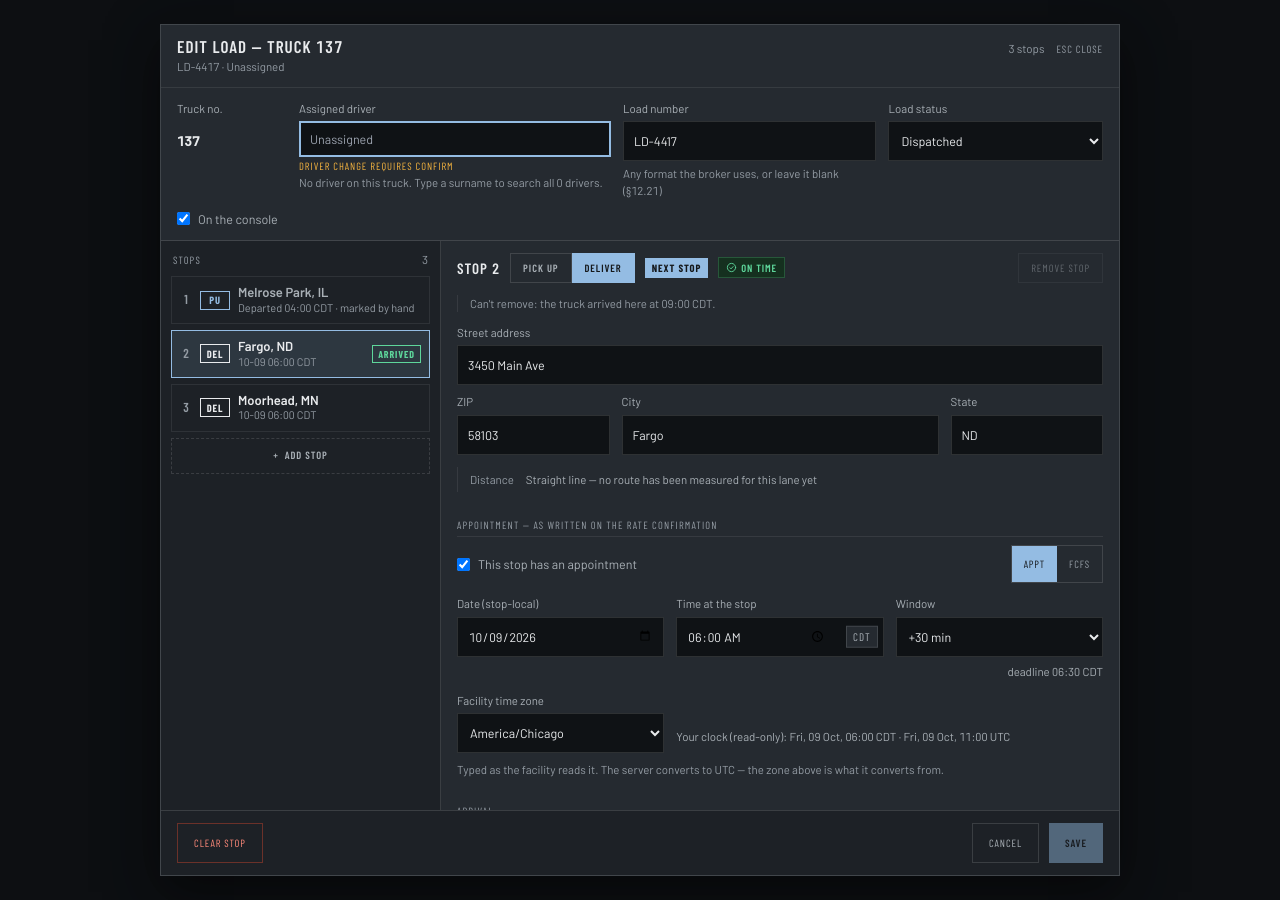
an arrival needs the stop before it left (§12.116 D5) › cannot be ticked on stop 3 while stop 2 has not been left, and says why
Click the tab "3 DEL Moorhead, MN 10-09 06:00 CDT" at point(300, 408), box [171,384,430,432]
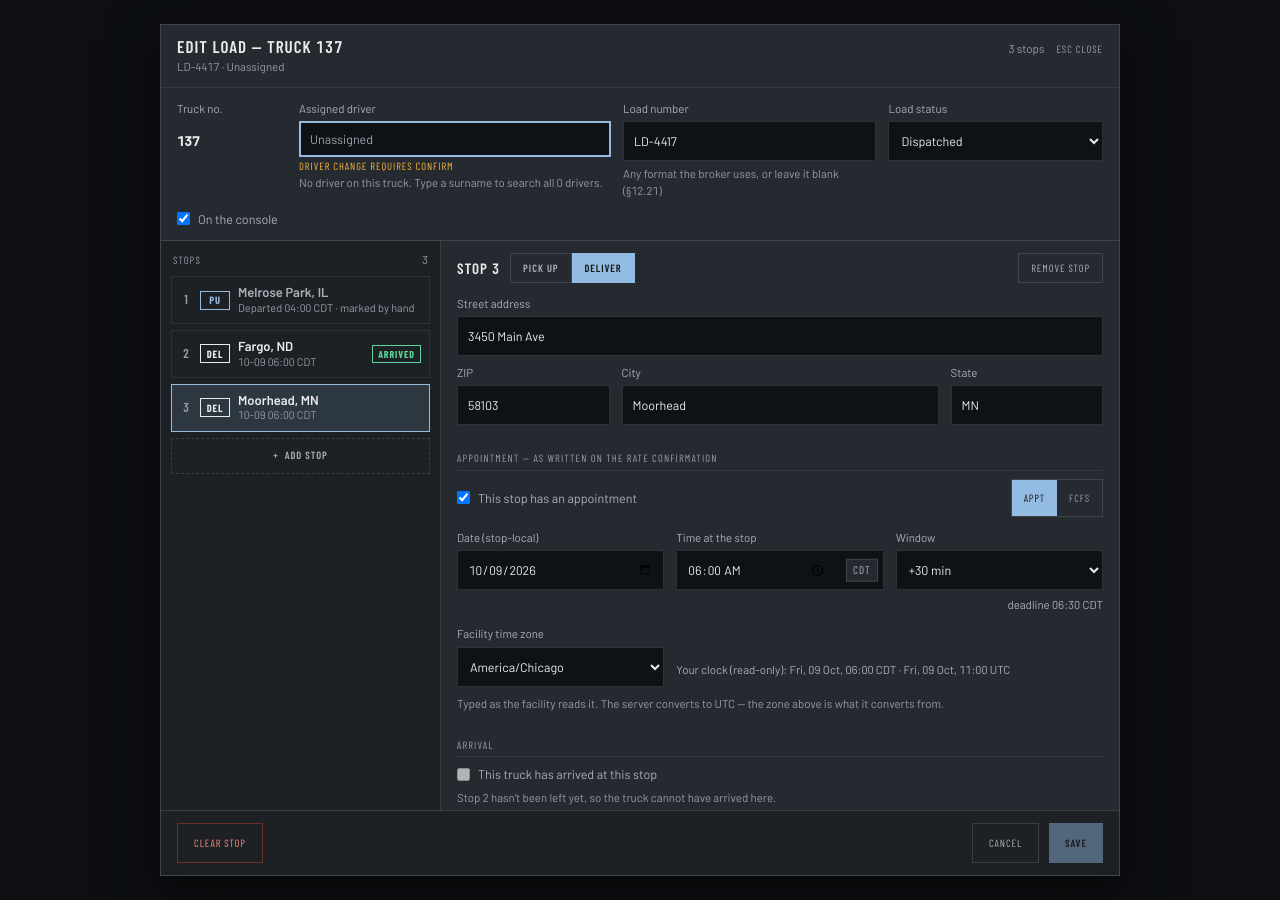
Expected: the text "Stop 2 hasn't been left yet, so the truck cannot have arrived here." is shown, [457,790,776,804]
